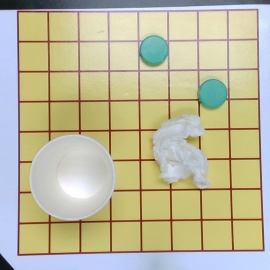cup: (30, 134, 115, 217)
green: (140, 35, 168, 66), (198, 79, 227, 108)
